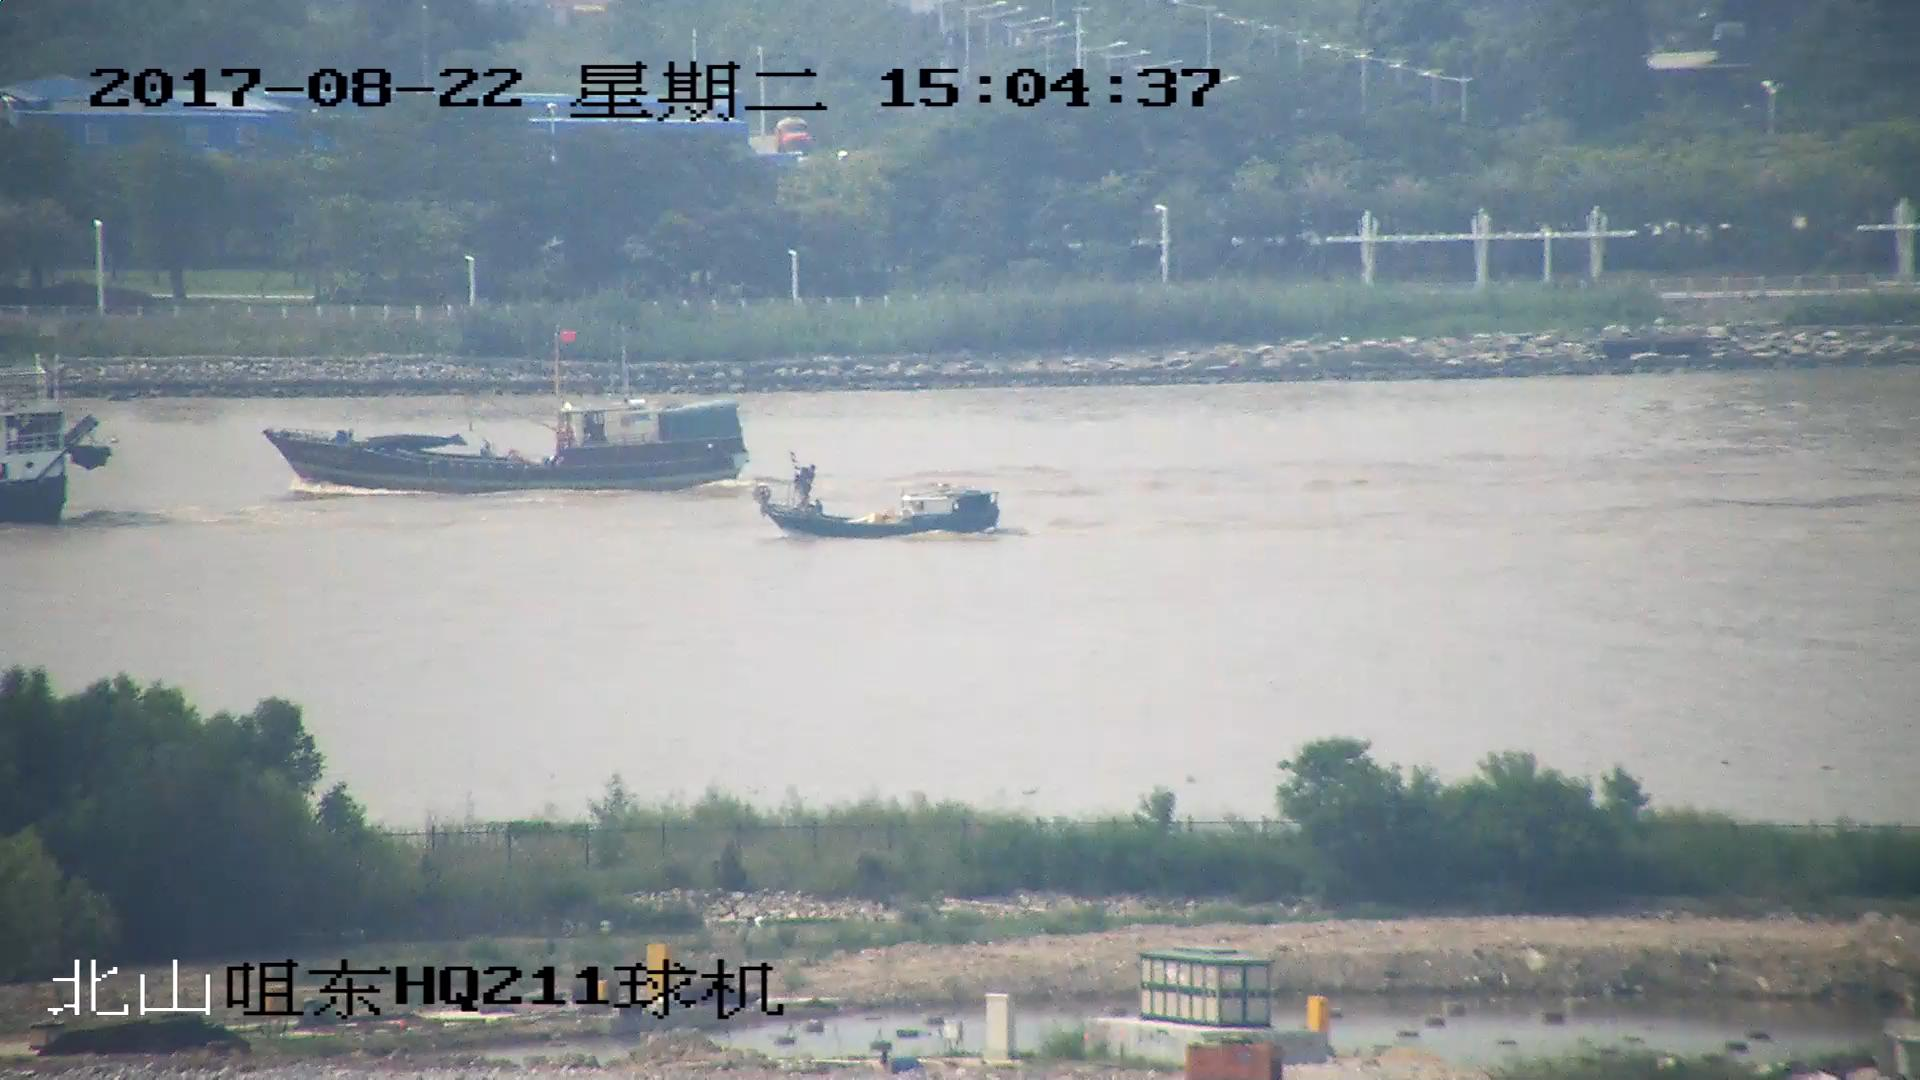fishing boat: (263, 329, 750, 497), (755, 459, 997, 544), (1, 362, 112, 524)
